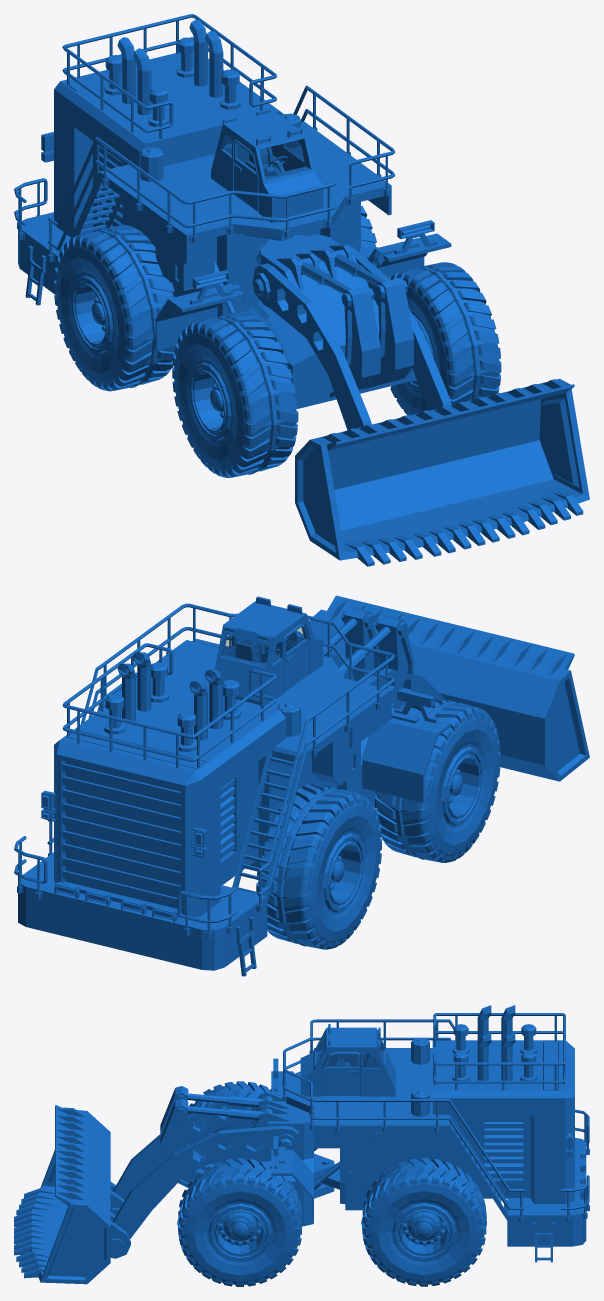
File: POLY_large_excavator.fbx
The picture shows the model from 3 angles, top to bottom: view 1: azimuth 30°, elevation 25°; view 2: azimuth 150°, elevation 25°; view 3: azimuth 270°, elevation 25°; orthographic projection. The views are drawn at different scales.
Visible parts, largest first — view 1: Cylinder_3, Symmetry_2_3, Symmetry_2, Symmetry_2_2, Cloner, Cylinder_1; view 2: Cylinder_3, Symmetry_2_3, Symmetry_2_2, Symmetry_2, Cylinder_1; view 3: Cylinder_3, Symmetry_2_3, Symmetry_2_2, Cloner, Cylinder_1, Symmetry_2.
Part boxes in pixels (x1,y1,x2,y2): Cylinder_3: (14, 14, 451, 409); Symmetry_2_3: (295, 378, 589, 566); Symmetry_2: (172, 311, 298, 477); Symmetry_2_2: (54, 206, 377, 391); Cloner: (389, 262, 501, 415); Cylinder_1: (252, 244, 464, 480); Cylinder_3: (14, 596, 451, 976); Symmetry_2_3: (309, 595, 589, 781); Symmetry_2_2: (256, 783, 381, 949); Symmetry_2: (374, 697, 500, 862); Cylinder_1: (325, 654, 444, 705); Cylinder_3: (160, 1005, 589, 1262); Symmetry_2_3: (14, 1105, 130, 1284); Symmetry_2_2: (361, 1158, 486, 1286); Cloner: (177, 1158, 302, 1286); Cylinder_1: (112, 1095, 300, 1238); Symmetry_2: (187, 1081, 271, 1157).
Bounding box in the file's own units: 696 × 708 × 1661.
